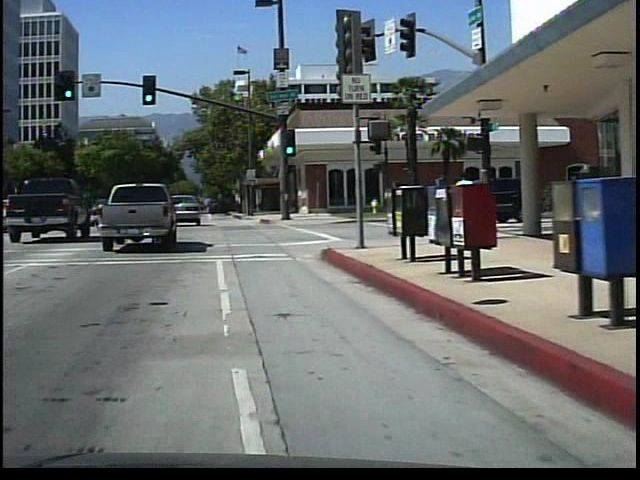person: (455, 168, 482, 242)
